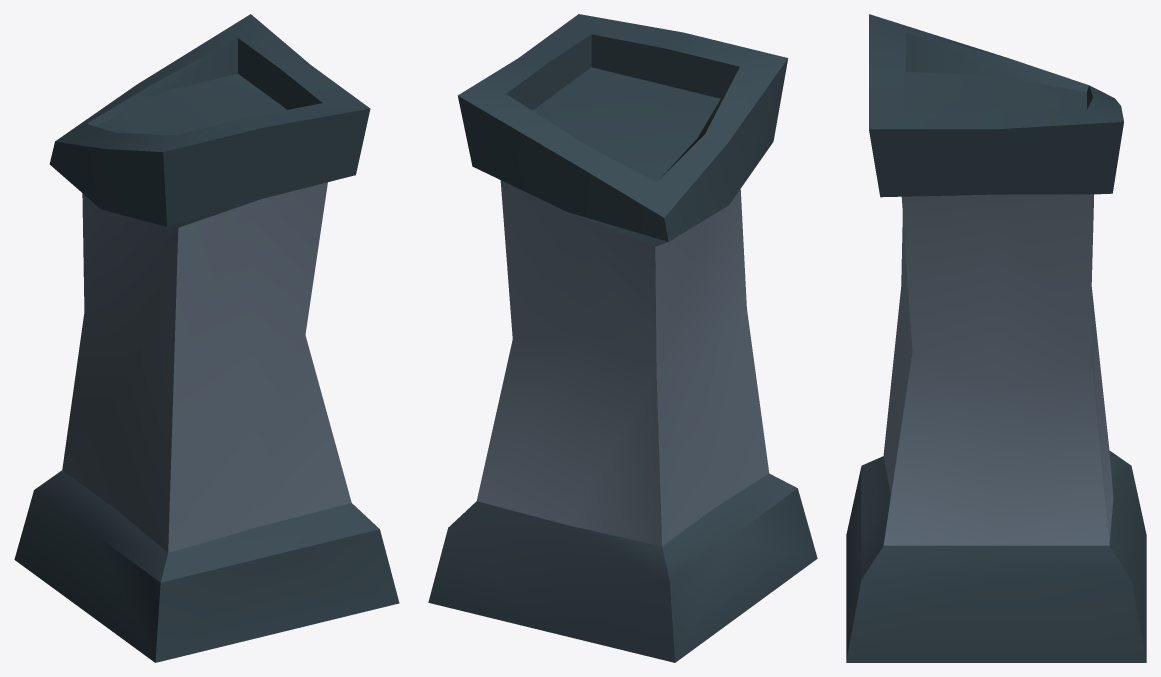
File: Pillar_slanted_A.fbx
3 views of the same model, side by side, from view 1: azimuth 30°, elevation 25°; view 2: azimuth 150°, elevation 25°; view 3: azimuth 270°, elevation 25° (orthographic). The views are drawn at different scales.
Visible parts, largest first — view 1: Pillar_slanted_A; view 2: Pillar_slanted_A; view 3: Pillar_slanted_A.
Part boxes in pixels (bbox=[...]): Pillar_slanted_A: bbox=[14, 14, 399, 662]; Pillar_slanted_A: bbox=[428, 14, 817, 662]; Pillar_slanted_A: bbox=[846, 14, 1146, 662].
Bounding box in the file's own units: 50.58 × 98.67 × 50.58.
